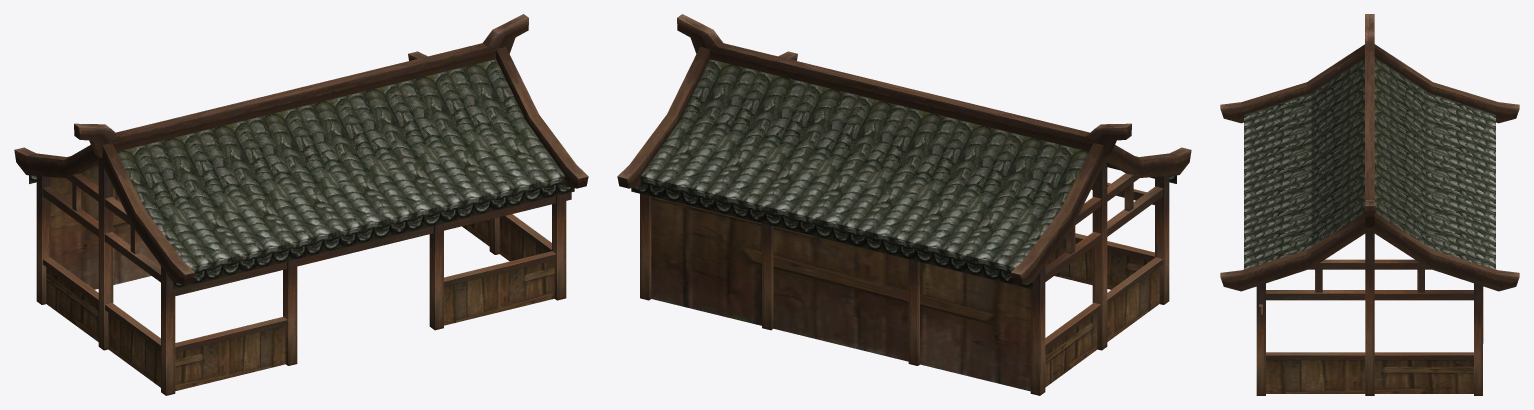
Rendered from Hangzhou_wj_034.FBX.
3 renders of one model, left to right at view 1: azimuth 30°, elevation 25°; view 2: azimuth 150°, elevation 25°; view 3: azimuth 270°, elevation 25°, orthographic. The views are drawn at different scales.
Parts seen in each view (by area): view 1: Object08fangziB; view 2: Object08fangziB; view 3: Object08fangziB.
Boxes of the visible parts, left/top/right/bottom form: Object08fangziB: left=14, top=14, right=588, bottom=395; Object08fangziB: left=617, top=14, right=1191, bottom=395; Object08fangziB: left=1220, top=14, right=1519, bottom=395.
Size of the model in its own units: 10.88 by 5.29 by 7.16.
